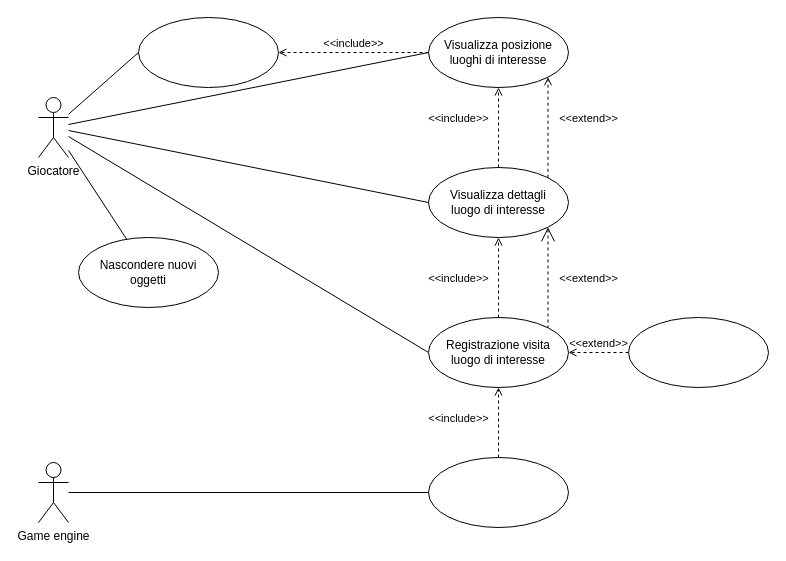
Image size: 786x561. Some labels were removed from this diagram. Here are the shapes that lost their labels. From the top down, the box of each, then its label:
(138, 16, 278, 88): Visualizza mappa
(628, 316, 768, 388): Inserisci commento
(428, 456, 568, 528): Aggiornamento livello
